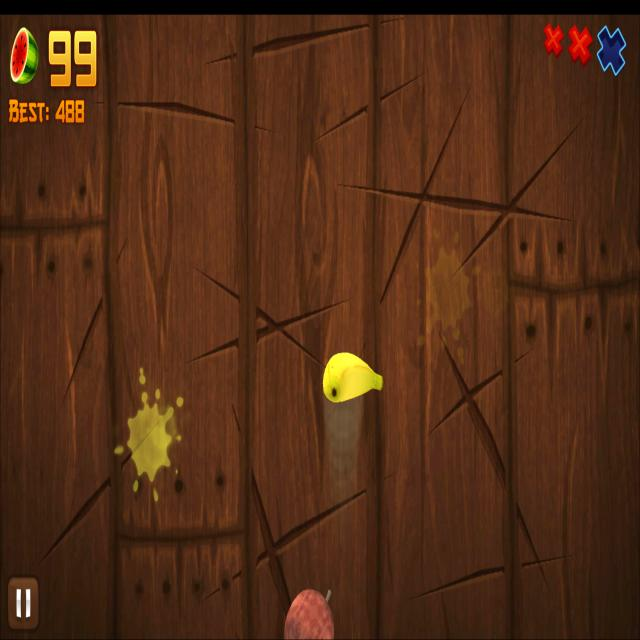fruit: (323, 352, 384, 402), (284, 590, 334, 640)
